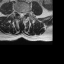CCS_normal: (20, 11, 22, 19)
LFS_normal: (24, 11, 26, 17)
LLS_normal: (22, 11, 24, 17)
RFS_normal: (17, 10, 19, 15)
RLS_normal: (19, 11, 20, 18)
